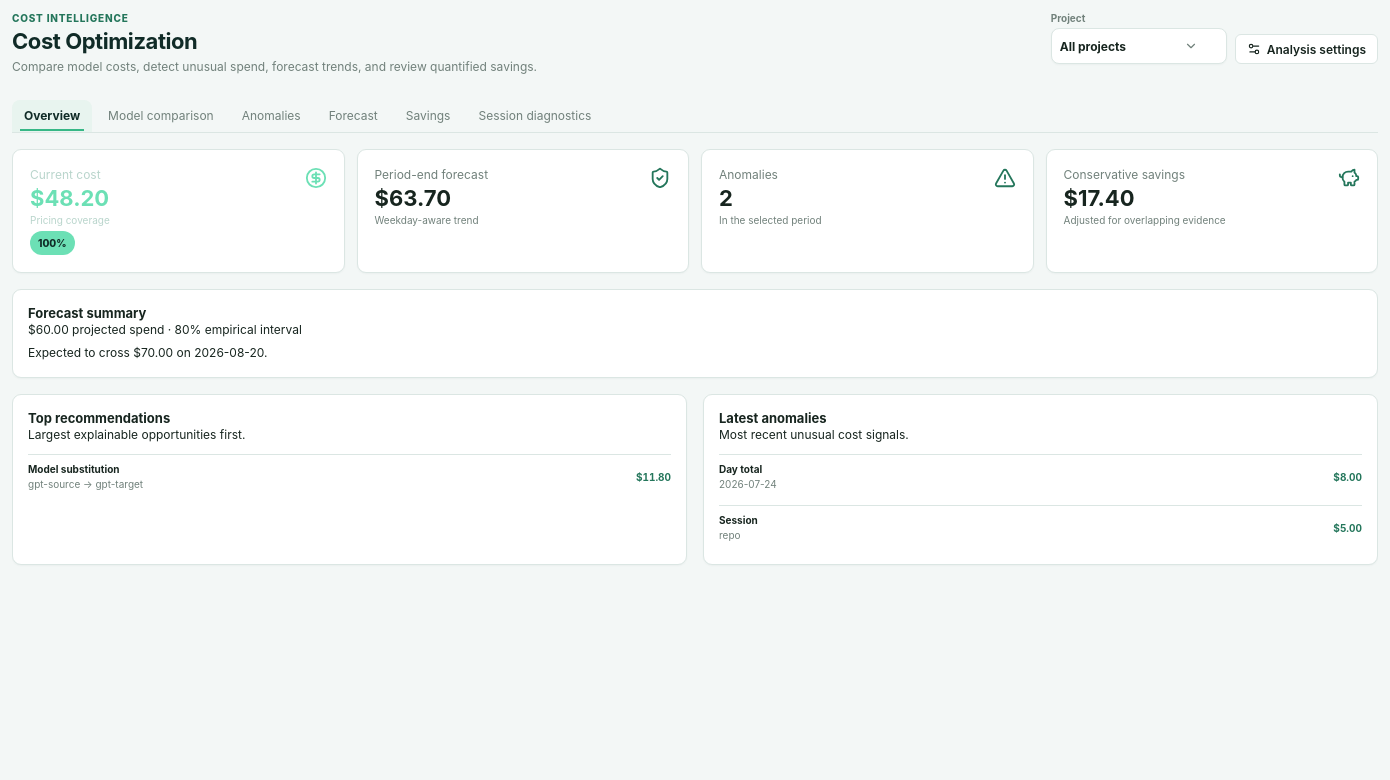
CostOptimizationView project select › removes the loading state when current project options are ready
The width and height of the screenshot is (1390, 780).
Click the dropdown labelled "project" at [1139, 46], box [1051,28,1227,64]
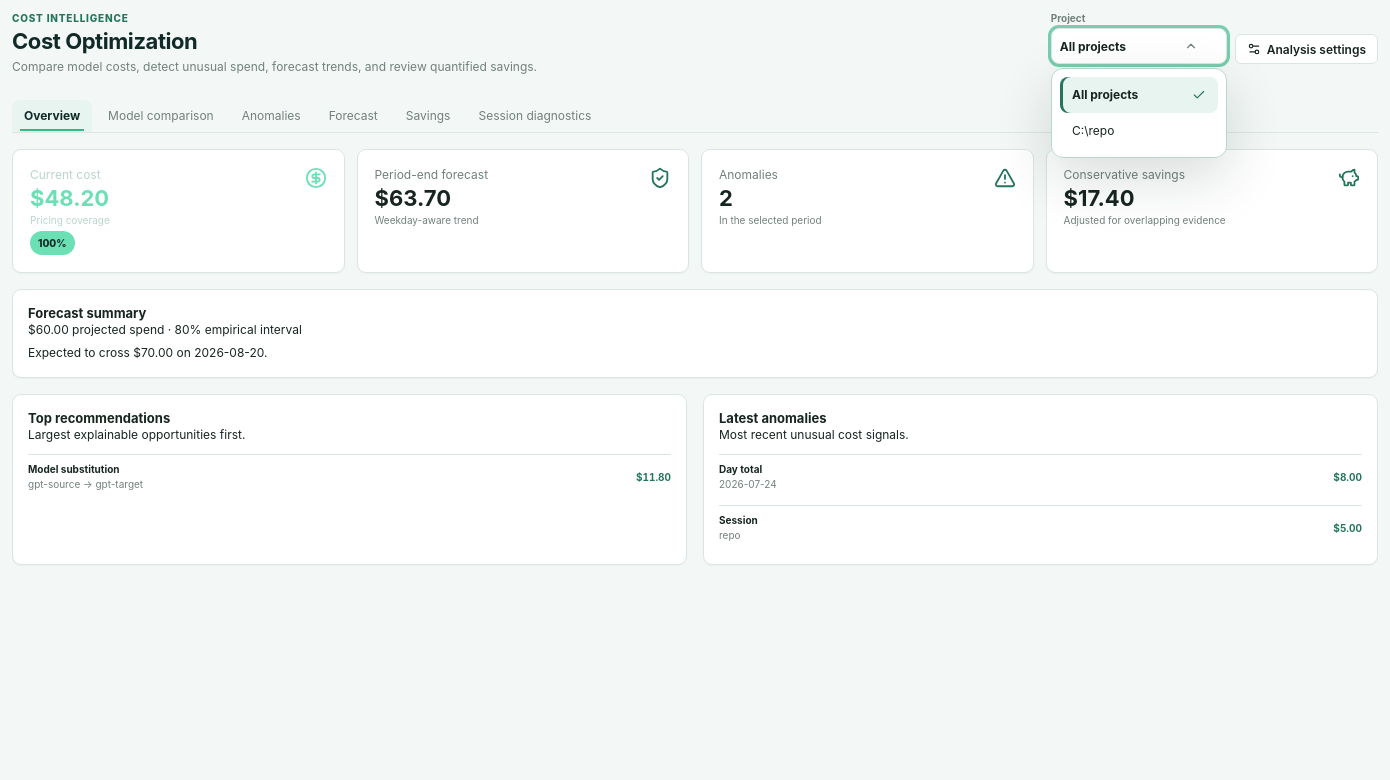
Expected: the option "All projects" is shown, [1060,77,1218,113]
Expected: the option "C:\\repo" is shown, [1060,113,1218,149]
